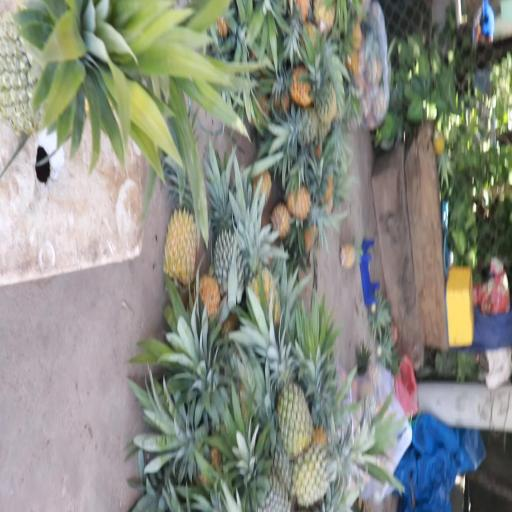------------------------------: (266, 335, 313, 450), (293, 430, 366, 502)
Pineapple - v8 v1: (161, 157, 203, 283), (243, 209, 284, 324), (285, 180, 338, 230)
